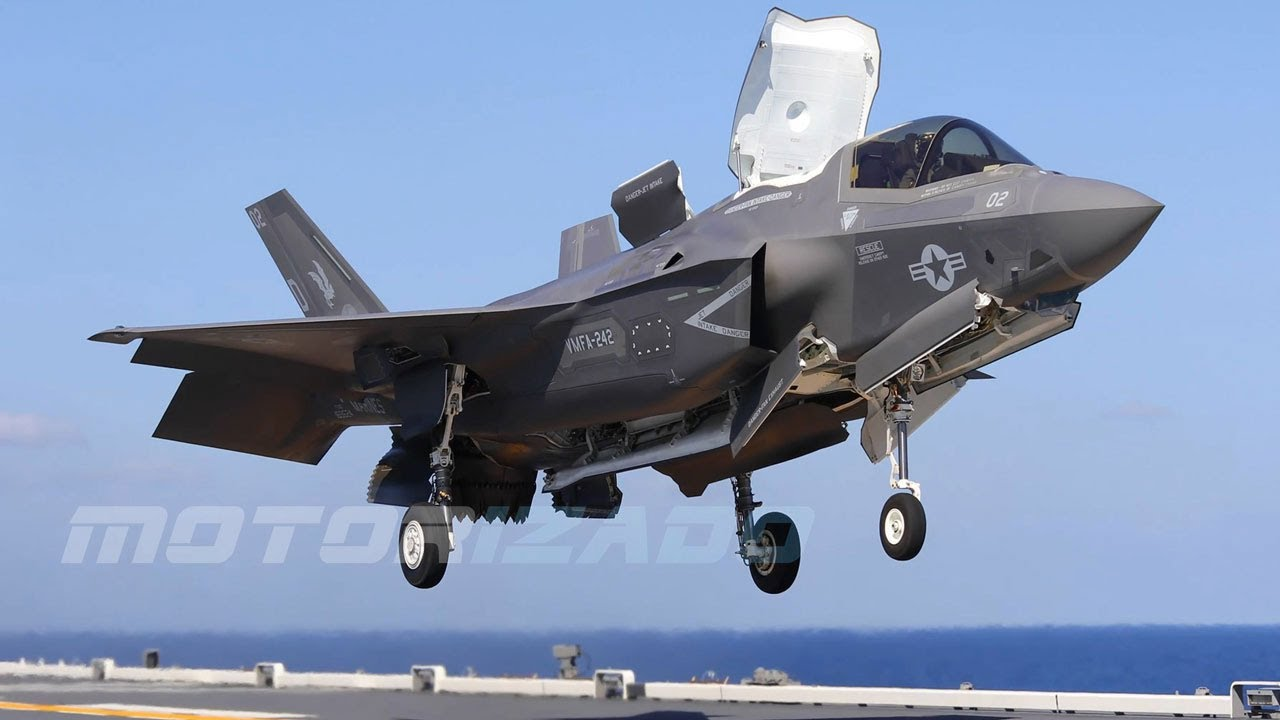F35: (69, 0, 1179, 607)
